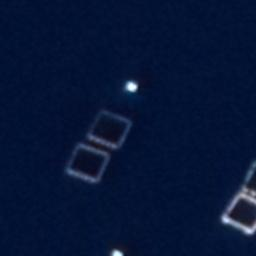square_solid: (65, 141, 112, 186), (87, 108, 132, 152), (222, 191, 256, 238)
